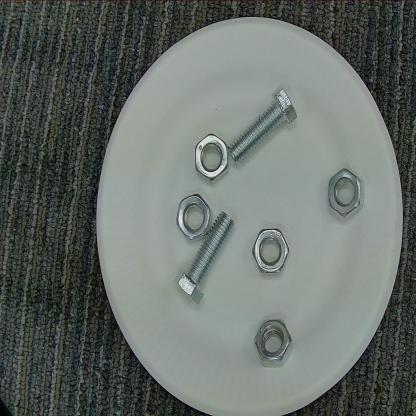FOD: (175, 210, 241, 308), (231, 82, 298, 170), (250, 224, 293, 280), (325, 169, 367, 226), (172, 189, 214, 242), (253, 318, 296, 368), (192, 135, 232, 185)
